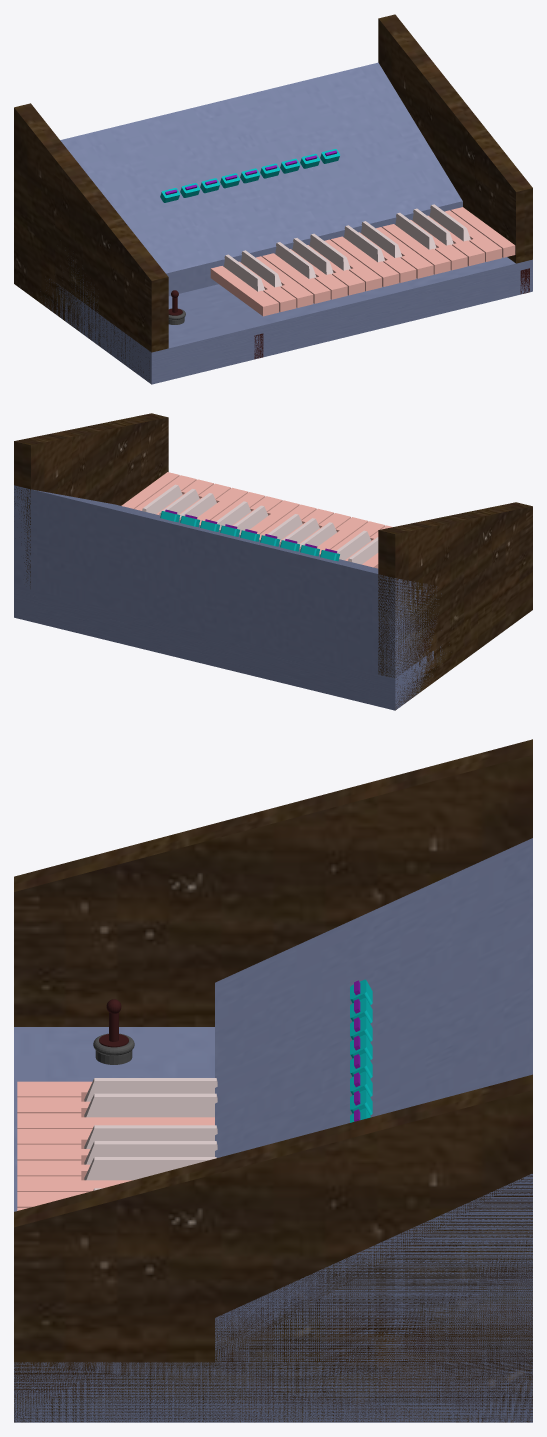
Rendered from Music_keyboard__0052.glb.
The picture shows the model from 3 angles, top to bottom: view 1: azimuth 30°, elevation 25°; view 2: azimuth 150°, elevation 25°; view 3: azimuth 270°, elevation 25°; orthographic projection. The views are drawn at different scales.
Visible parts, largest first — view 1: chassis::angled_panel, chassis::cheek_1, chassis::base_shell, chassis::cheek_0, white_key_0::key_body, white_key_10::key_body, white_key_3::key_body, white_key_7::key_body, white_key_14::key_body, white_key_2::key_body, white_key_9::key_body, white_key_13::key_body (+17 smaller); view 2: chassis::angled_panel, chassis::cheek_1, chassis::base_shell, chassis::cheek_0, white_key_14::key_body, white_key_3::key_body, white_key_10::key_body, white_key_7::key_body, black_key_9::key_body, black_key_1::key_body, black_key_5::key_body, black_key_6::key_body (+10 smaller); view 3: chassis::cheek_0, chassis::angled_panel, chassis::cheek_1, chassis::base_shell, black_key_1::key_body, white_key_2::key_body, black_key_4::key_body, black_key_0::key_body, black_key_3::key_body, black_key_2::key_body, white_key_6::key_body, white_key_0::key_body (+4 smaller).
Part boxes in pixels (x1,y1,x2,y2): chassis::angled_panel: (60,62,462,312); chassis::cheek_1: (14,103,168,379); chassis::base_shell: (40,257,532,384); chassis::cheek_0: (378,14,532,263); white_key_0::key_body: (210,266,278,316); white_key_10::key_body: (382,224,450,274); white_key_3::key_body: (262,253,330,303); white_key_7::key_body: (330,236,399,286); white_key_14::key_body: (451,207,515,257); white_key_2::key_body: (256,256,313,307); white_key_9::key_body: (376,227,433,278); white_key_13::key_body: (444,210,501,261); chassis::angled_panel: (14,485,441,678); chassis::cheek_1: (378,502,532,710); chassis::base_shell: (14,585,442,710); chassis::cheek_0: (14,413,168,588); white_key_14::key_body: (121,472,179,508); white_key_3::key_body: (317,517,368,554); white_key_10::key_body: (197,487,248,525); white_key_7::key_body: (249,500,299,534); black_key_9::key_body: (142,484,182,514); black_key_1::key_body: (336,530,371,560); black_key_5::key_body: (233,505,268,534); black_key_6::key_body: (216,501,251,529); chassis::cheek_0: (14,1074,532,1422); chassis::angled_panel: (215,838,532,1362); chassis::cheek_1: (14,739,532,1026); chassis::base_shell: (14,1027,532,1422); black_key_1::key_body: (84,1093,217,1117); white_key_2::key_body: (17,1113,214,1128); black_key_4::key_body: (84,1157,216,1180); black_key_0::key_body: (84,1078,217,1101); black_key_3::key_body: (84,1141,217,1164); black_key_2::key_body: (84,1125,217,1148); white_key_6::key_body: (17,1176,132,1191); white_key_0::key_body: (17,1081,92,1101).
Bounding box in the file's own units: 0.498 × 0.2202 × 0.3114.
Materials: 8 (4 with a texture image).
